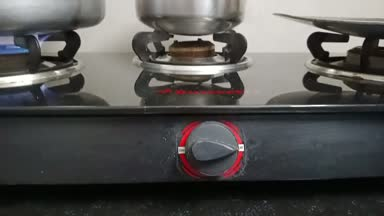flame_gas_off: (149, 24, 252, 178)
flame_gas_on: (0, 28, 82, 83)
